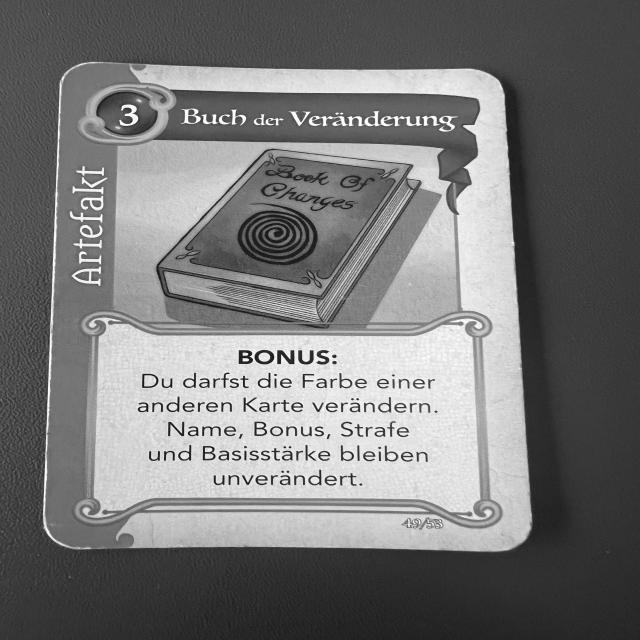Book Of Changes: (39, 56, 537, 554)
